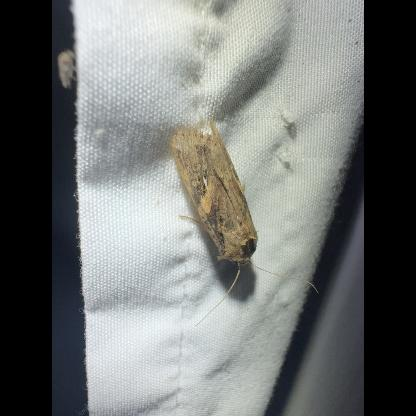Fall Armyworm Moth: (169, 118, 321, 328)
